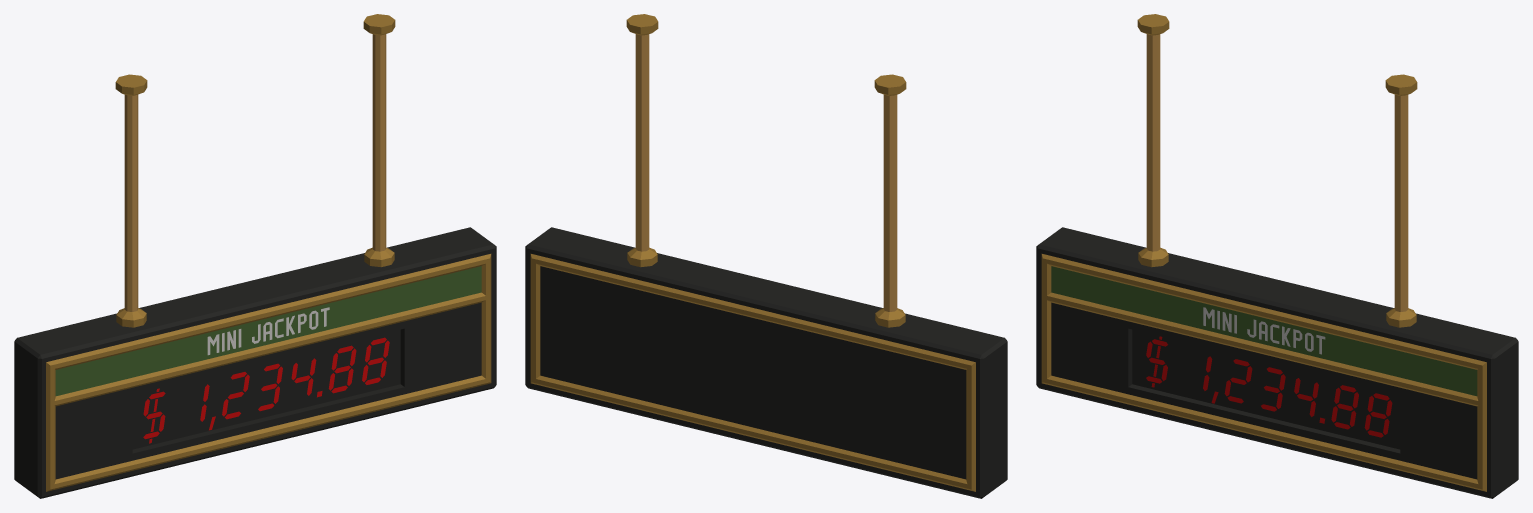
Rendered from progressive-jackpot-sign-64b904.glb.
3 renders of one model, left to right at view 1: azimuth 30°, elevation 25°; view 2: azimuth 150°, elevation 25°; view 3: azimuth 330°, elevation 25°, orthographic.
Parts seen in each view (by area): view 1: meter; view 2: meter; view 3: meter.
Part boxes in pixels (bbox=[...]): meter: bbox=[14, 14, 496, 498]; meter: bbox=[525, 14, 1007, 498]; meter: bbox=[1036, 14, 1518, 498].
Bounding box in the file's own units: 2 × 1.6 × 0.224.
